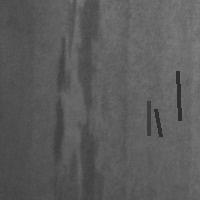inclusion: (52, 1, 105, 198), (117, 94, 139, 168), (175, 69, 181, 122), (153, 107, 162, 138), (146, 99, 150, 137)
